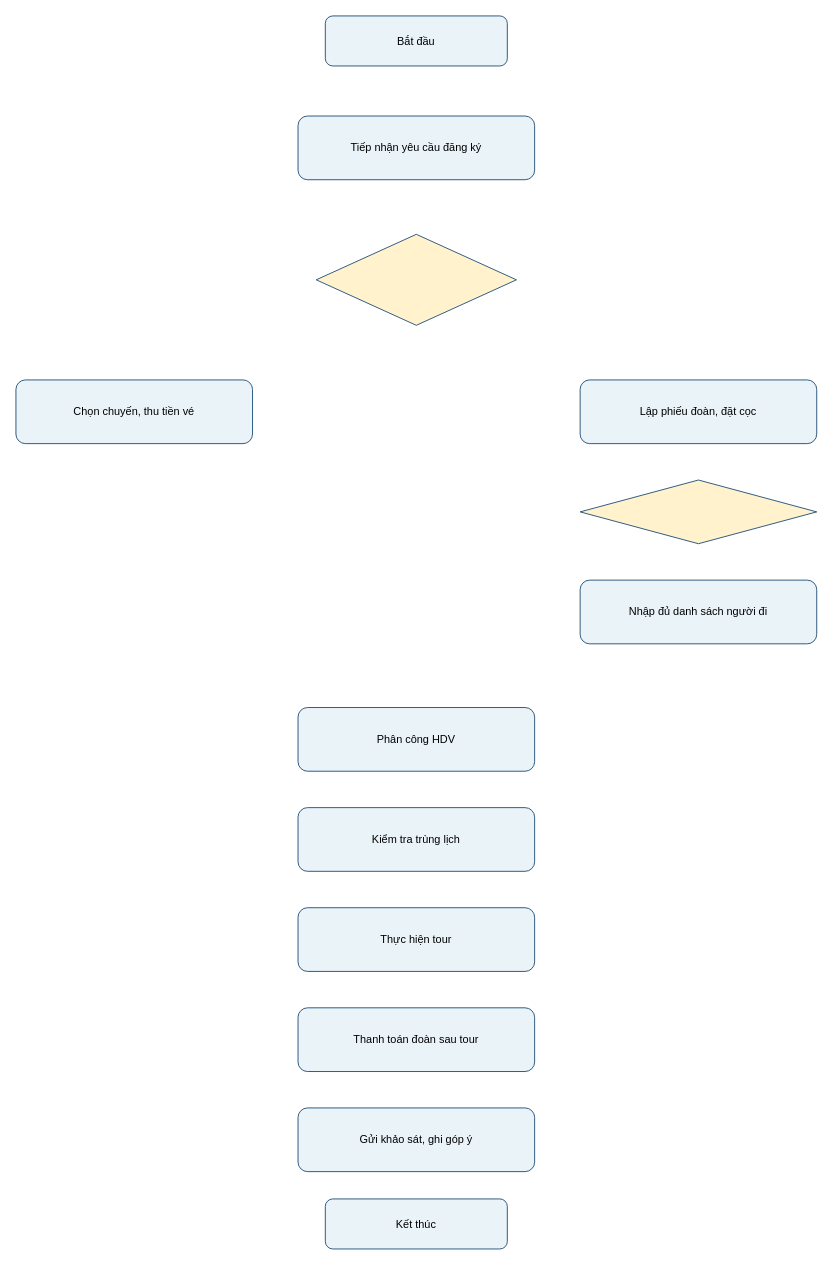
This 833x1265 diagram has some shape labels left out. The shapes that lost their labels are listed below. From the top down, each one's centre as x and y in pixels, then its label:
(415,279): Số người < 12?
(698,511): Mua bảo hiểm?
